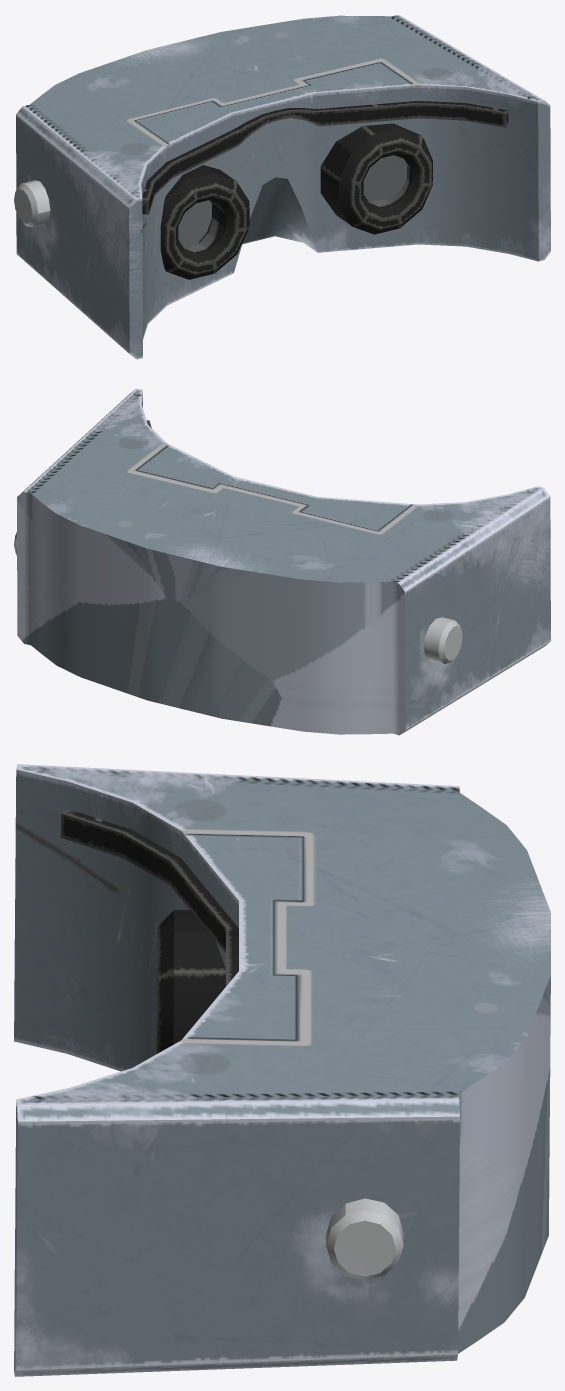
The model's file is TelesphereMask_part2.gltf.
3 views of the same model, one above another, from view 1: azimuth 30°, elevation 25°; view 2: azimuth 150°, elevation 25°; view 3: azimuth 270°, elevation 25° (orthographic). The views are drawn at different scales.
Visible parts, largest first — view 1: Telesphere_part2; view 2: Telesphere_part2; view 3: Telesphere_part2.
Boxes of the visible parts, x1,y1,x2,y2 form: Telesphere_part2: (14,14,550,359); Telesphere_part2: (14,388,550,735); Telesphere_part2: (14,764,550,1376).
Bounding box in the file's own units: 0.4841 × 0.1717 × 0.3055.
Materials: 1 (1 with a texture image).
